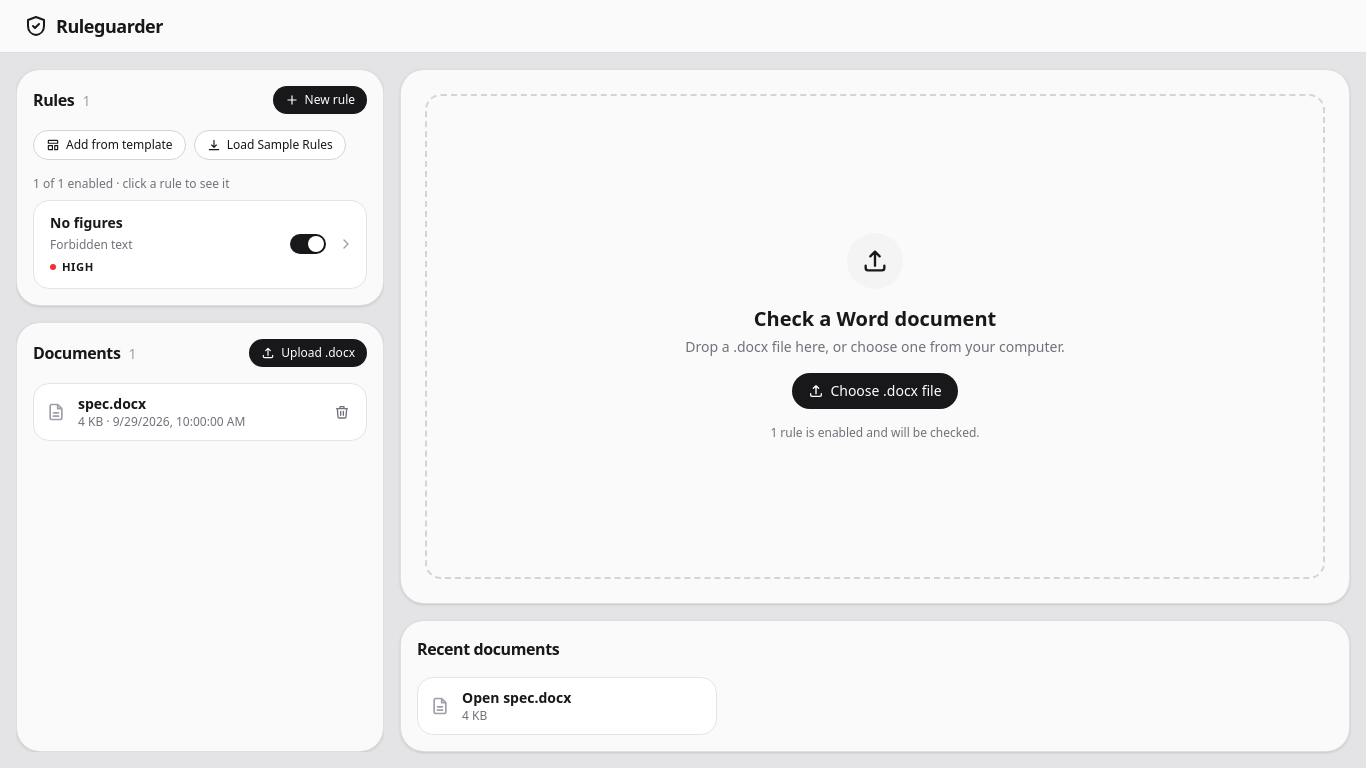
it: App › loads sample rules and refreshes the rules list
Expected: the text "No figures" is shown, [50, 213, 123, 233]
What coordinates should you click on to do the following:
click the button "Load Sample Rules"
I would click on:
 (270, 145)
Its box is [194, 130, 346, 160].
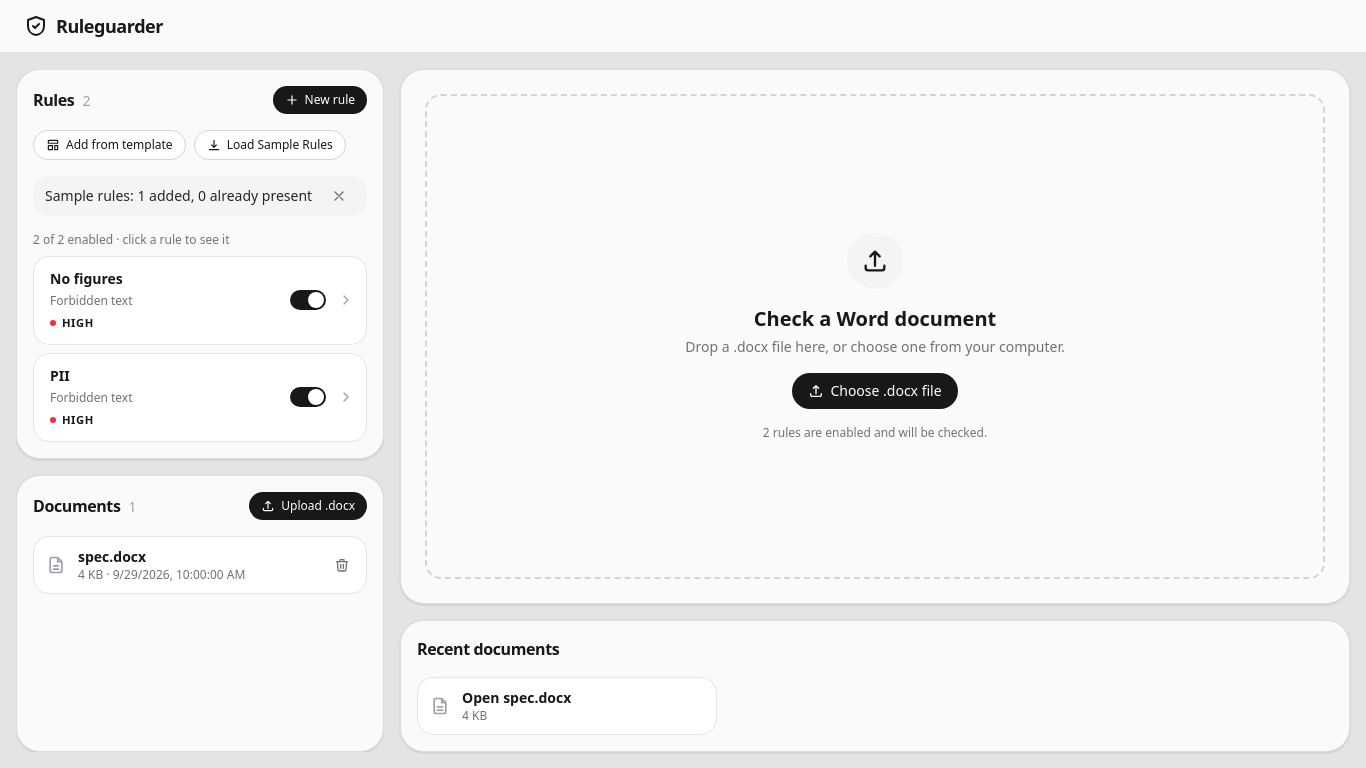
Result: the text "Sample rules: 1 added, 0 already present" is shown at [45, 186, 315, 206]
Result: the text "PII" is shown at [50, 366, 70, 386]
